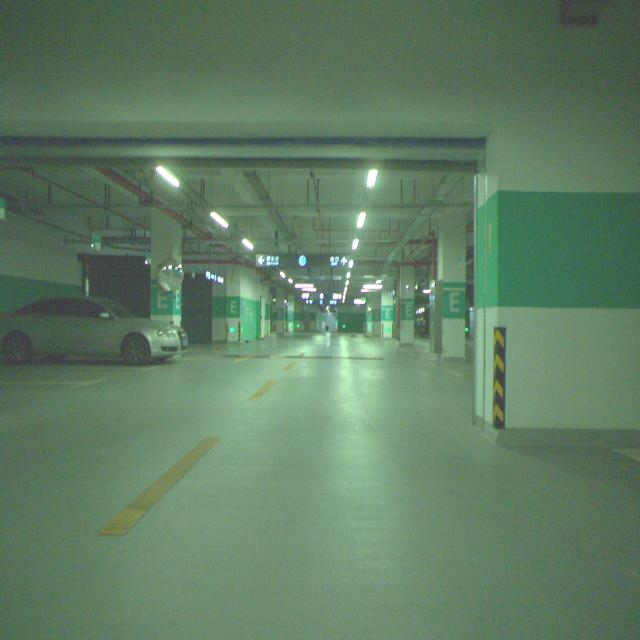pillar: (438, 211, 466, 358), (150, 211, 182, 324)
